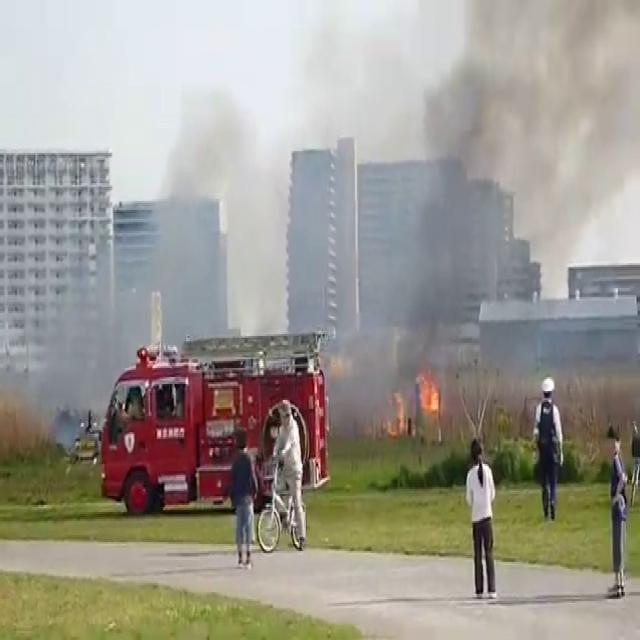Fire: (411, 361, 445, 423)
Smoke: (326, 0, 640, 400), (96, 58, 274, 350)
